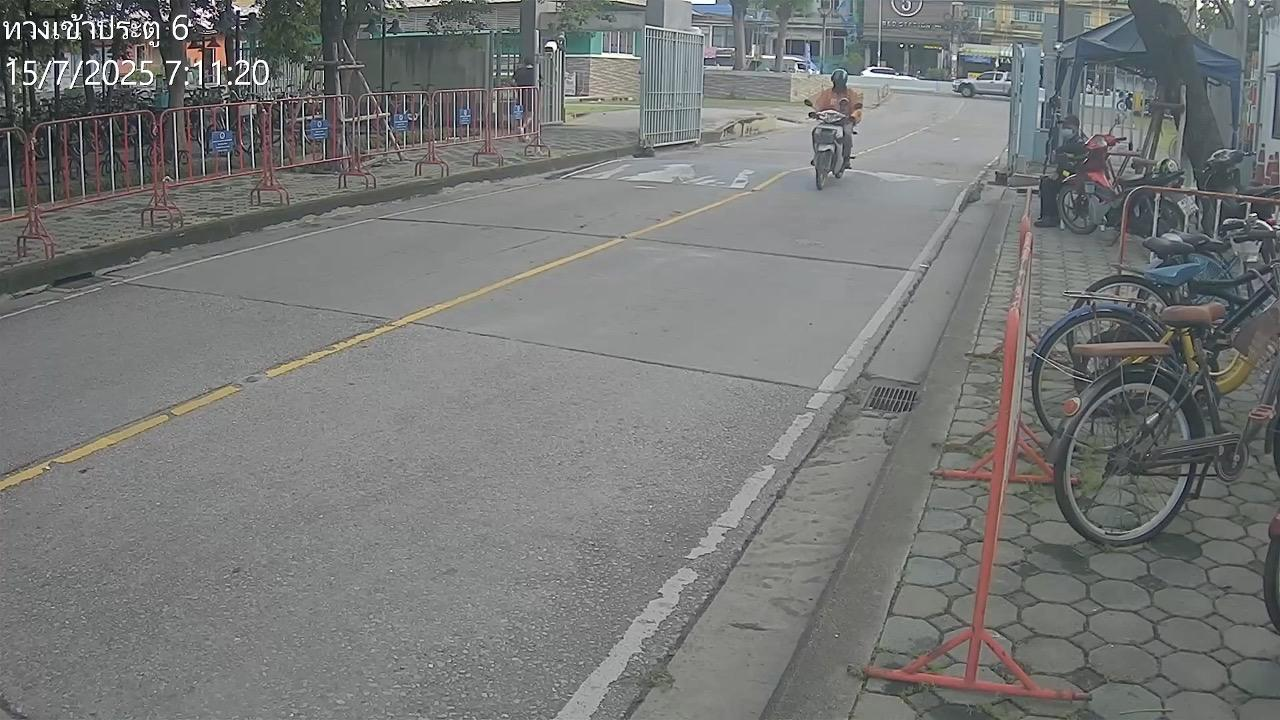With-Helmet: (831, 69, 848, 88)
